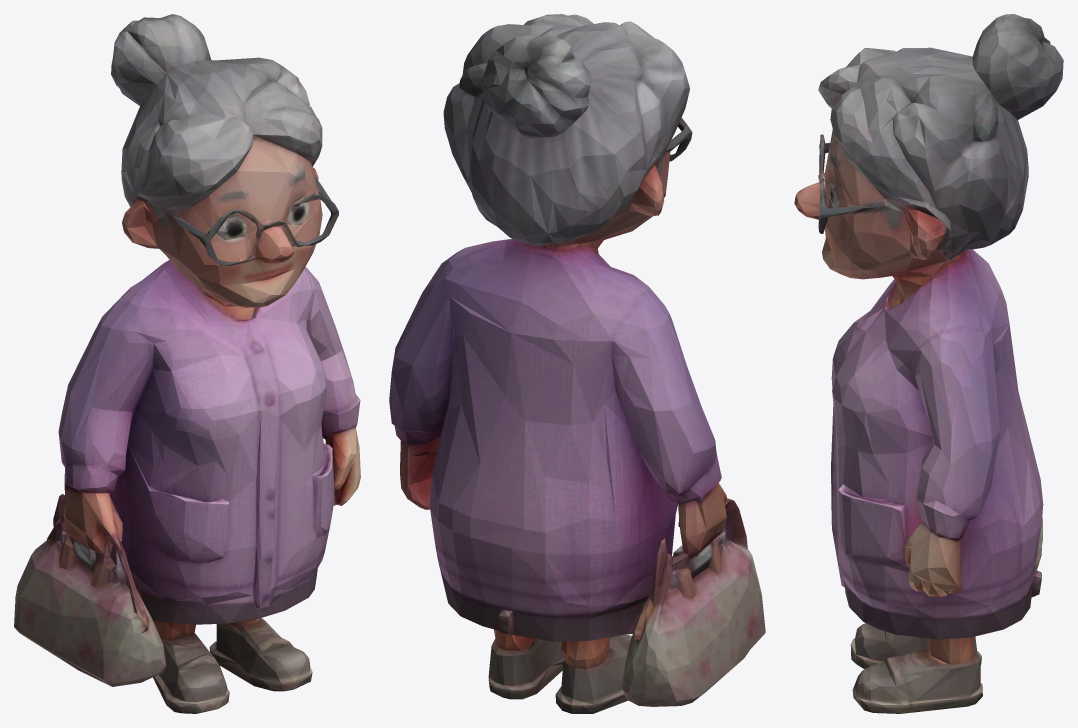
Rendered from citizen-c.glb.
3 views of the same model, side by side, from view 1: azimuth 30°, elevation 25°; view 2: azimuth 150°, elevation 25°; view 3: azimuth 270°, elevation 25° (orthographic). The views are drawn at different scales.
Visible parts, largest first — view 1: geometry_0; view 2: geometry_0; view 3: geometry_0.
Boxes of the visible parts, <box> form: geometry_0: <box>14,14,360,713</box>; geometry_0: <box>389,14,765,713</box>; geometry_0: <box>794,14,1063,713</box>.
Size of the model in its own units: 0.5132 by 0.9986 by 0.3745.
Materials: 1 (1 with a texture image).
